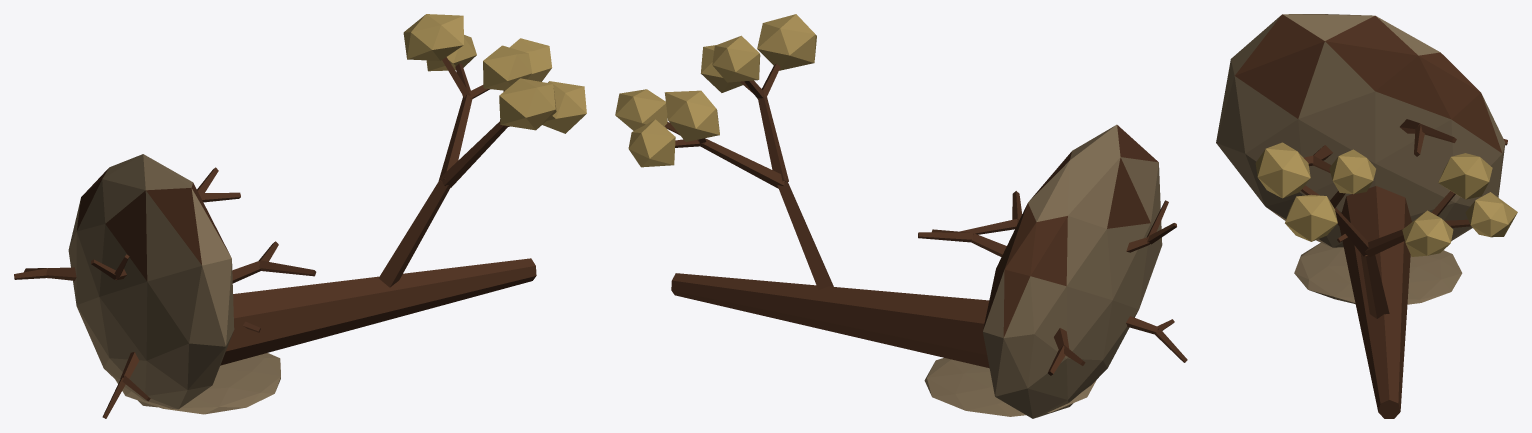
Rendered from uprooted_tree.glb.
The picture shows the model from 3 angles, left to right: view 1: azimuth 30°, elevation 25°; view 2: azimuth 150°, elevation 25°; view 3: azimuth 270°, elevation 25°; orthographic projection. The views are drawn at different scales.
Parts seen in each view (by area): view 1: uprooted_tree.001; view 2: uprooted_tree.001; view 3: uprooted_tree.001.
Boxes of the visible parts, left/top/right/bottom form: uprooted_tree.001: left=14, top=14, right=586, bottom=418; uprooted_tree.001: left=615, top=14, right=1187, bottom=418; uprooted_tree.001: left=1216, top=14, right=1517, bottom=418.
Size of the model in its own units: 6.4 by 3.32 by 3.38.
